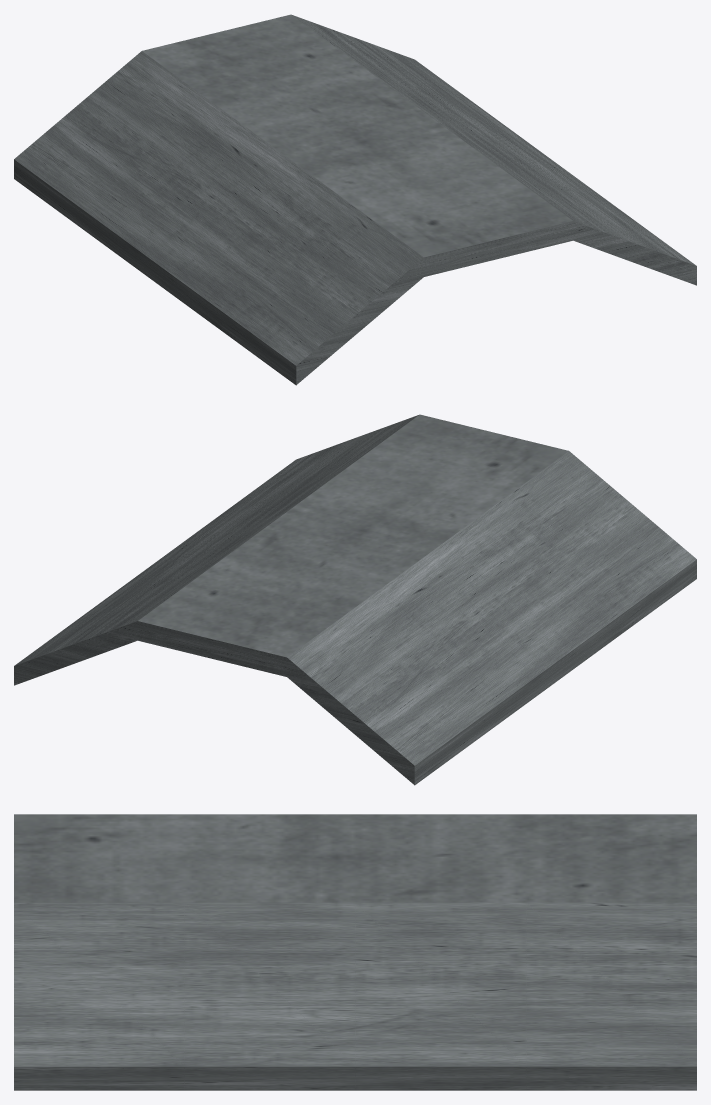
File: house60.obj
The picture shows the model from 3 angles, top to bottom: view 1: azimuth 30°, elevation 25°; view 2: azimuth 150°, elevation 25°; view 3: azimuth 270°, elevation 25°; orthographic projection. The views are drawn at different scales.
Visible parts, largest first — view 1: 立方体.088; view 2: 立方体.088; view 3: 立方体.088.
Boxes of the visible parts, x1,y1,x2,y2 form: 立方体.088: [14, 14, 696, 385]; 立方体.088: [14, 414, 696, 785]; 立方体.088: [14, 814, 696, 1090].
Size of the model in its own units: 42.65 by 9.85 by 52.
Materials: 1 (1 with a texture image).
